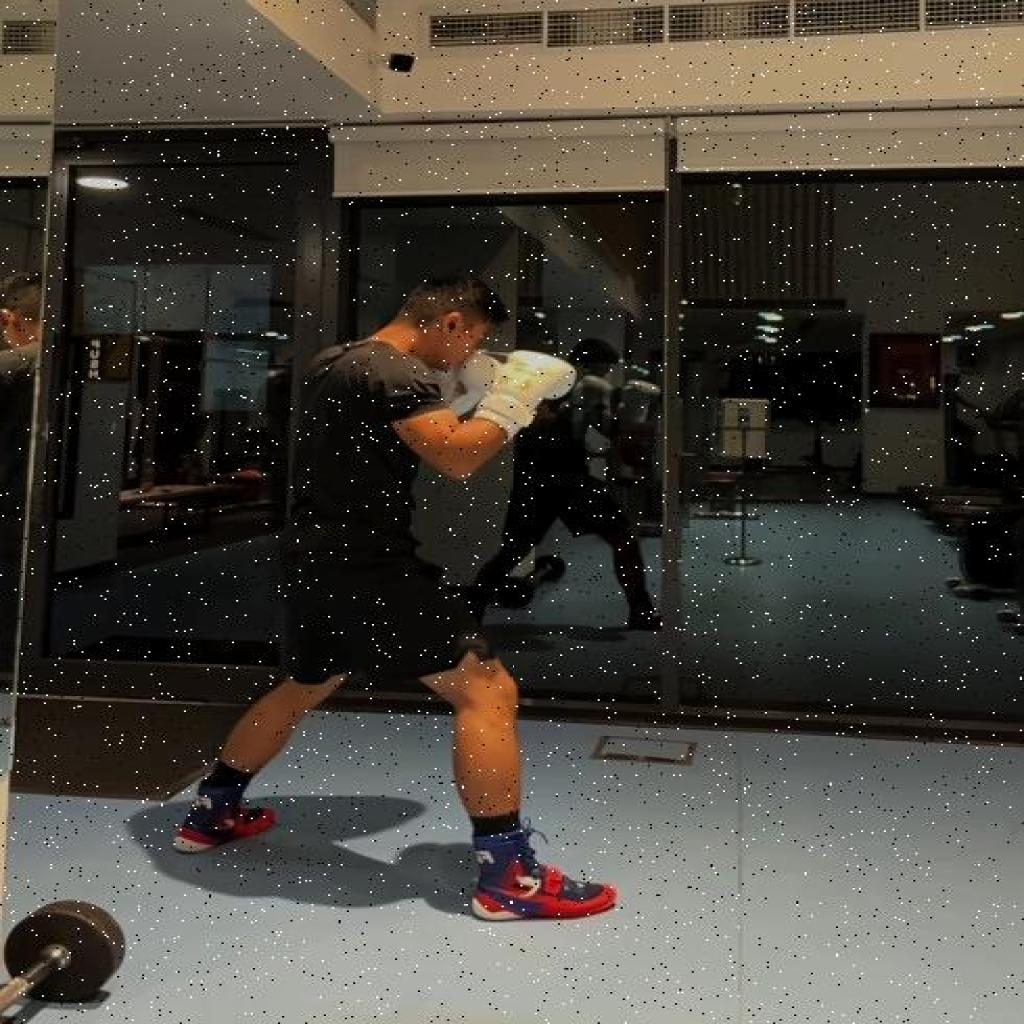no punch: (169, 270, 621, 925)
